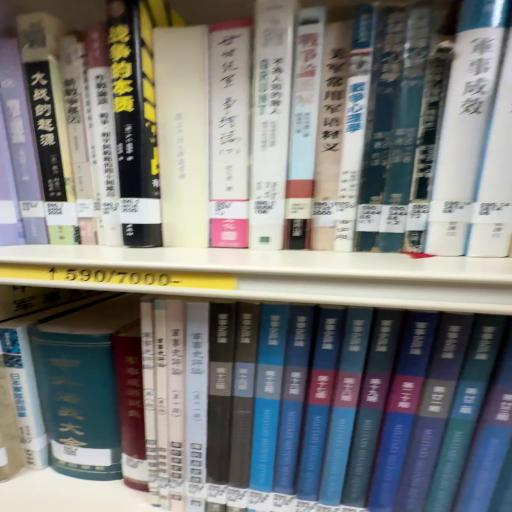backward: (158, 24, 214, 249)
book: (15, 15, 78, 246), (366, 314, 433, 512), (249, 5, 294, 253), (211, 19, 255, 251), (208, 306, 237, 487), (166, 299, 188, 477)
